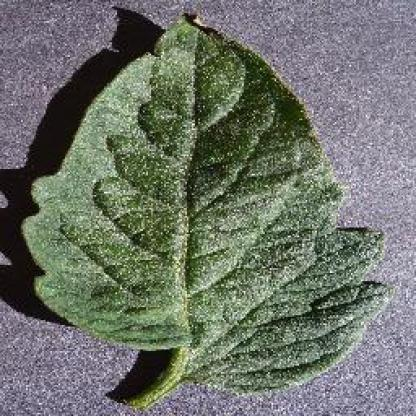bad leaf: (27, 8, 382, 398)
